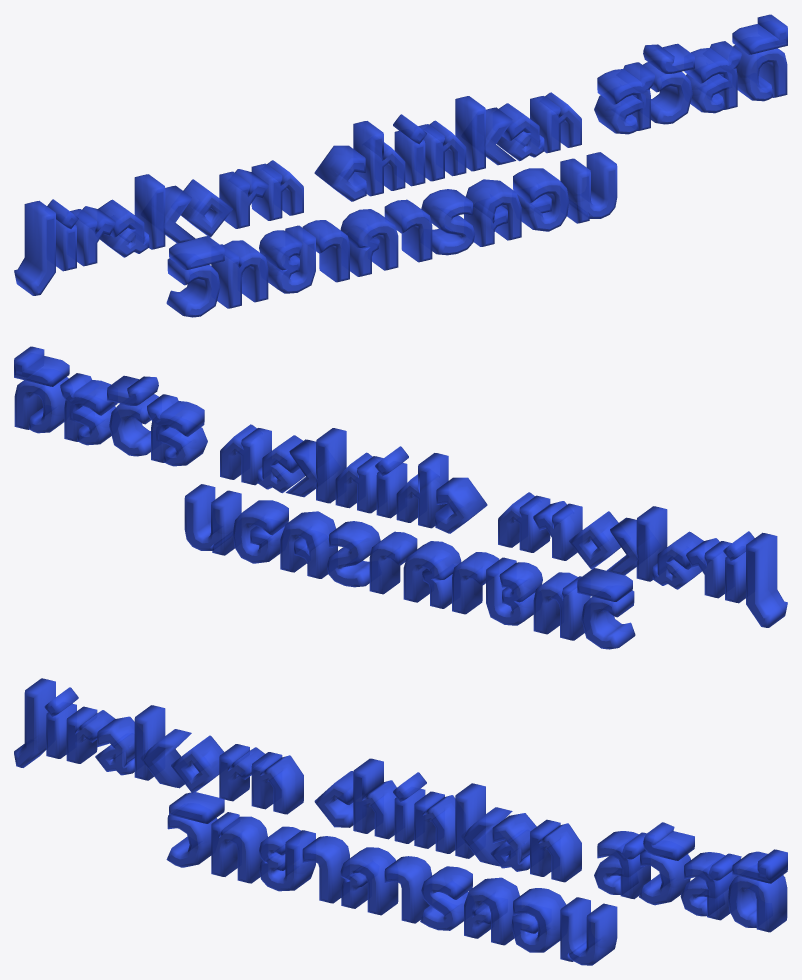
3 views of the same model, one above another, from view 1: azimuth 30°, elevation 25°; view 2: azimuth 150°, elevation 25°; view 3: azimuth 330°, elevation 25° (orthographic).
Parts seen in each view (by area): view 1: Text; view 2: Text; view 3: Text.
Boxes of the visible parts, x1,y1,x2,y2 form: Text: (14,14,787,317); Text: (14,346,787,649); Text: (14,678,787,965).
Bounding box in the file's own units: 1.73 × 0.3199 × 0.08.
